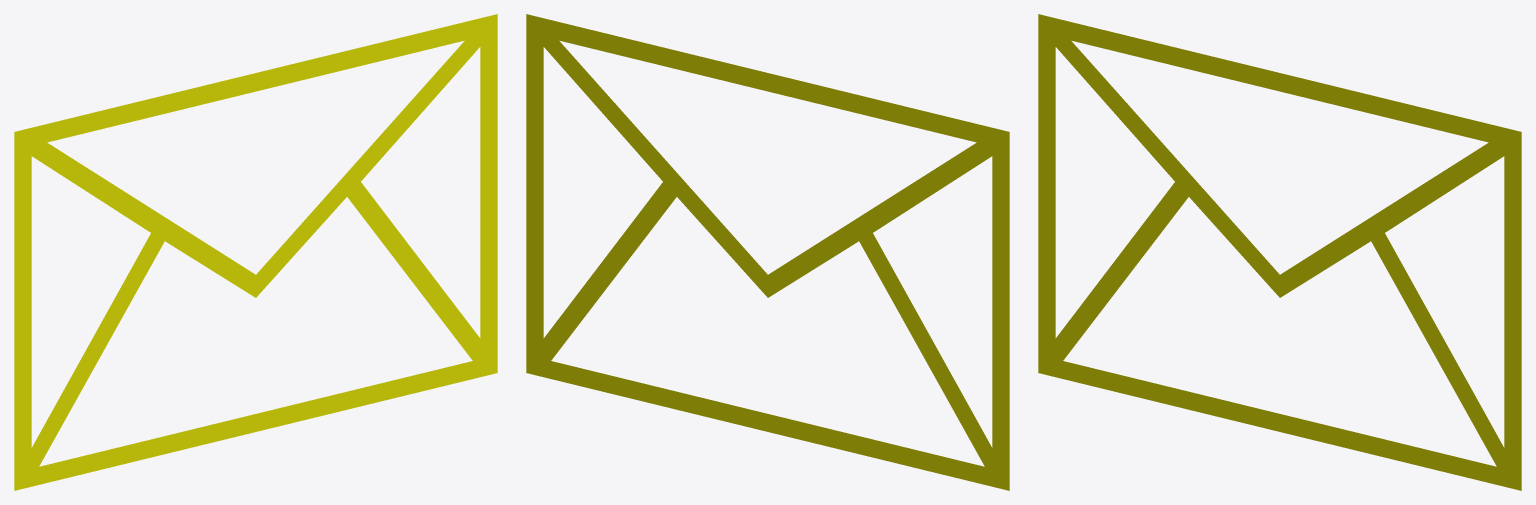
The model's file is envelope_model.glb.
3 renders of one model, left to right at view 1: azimuth 30°, elevation 25°; view 2: azimuth 150°, elevation 25°; view 3: azimuth 330°, elevation 25°, orthographic.
Visible parts, largest first — view 1: Text.930_930; view 2: Text.930_930; view 3: Text.930_930.
Boxes of the visible parts, bbox=[...] form: Text.930_930: bbox=[14, 14, 497, 490]; Text.930_930: bbox=[526, 14, 1009, 490]; Text.930_930: bbox=[1038, 14, 1521, 490].
Size of the model in its own units: 1.09 by 0.772 by 2.73e-06.
